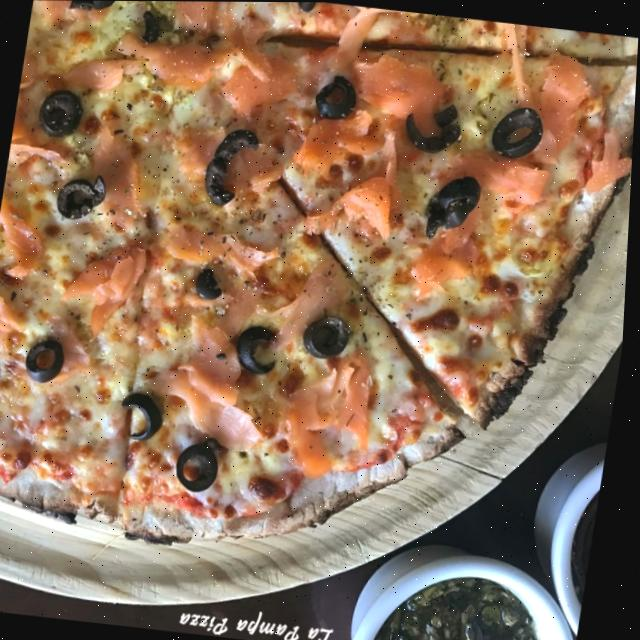black_olives: (202, 123, 260, 212), (420, 170, 485, 240), (489, 101, 550, 160), (398, 100, 464, 154), (231, 319, 287, 382), (301, 306, 360, 364), (34, 83, 88, 145), (118, 384, 170, 448), (53, 170, 112, 223), (175, 437, 227, 495), (22, 331, 70, 383), (310, 72, 362, 119), (194, 266, 229, 300), (69, 0, 126, 17), (287, 2, 323, 14)
pizza: (0, 0, 640, 589)
